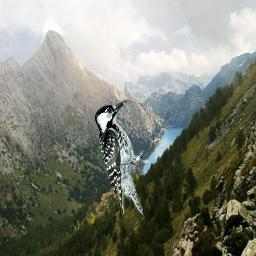Woodpecker: (94, 99, 143, 220)
